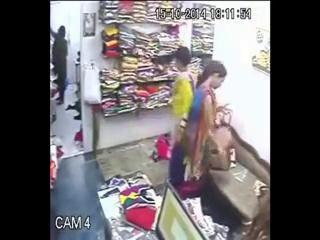shoplifting: (187, 61, 242, 191)
